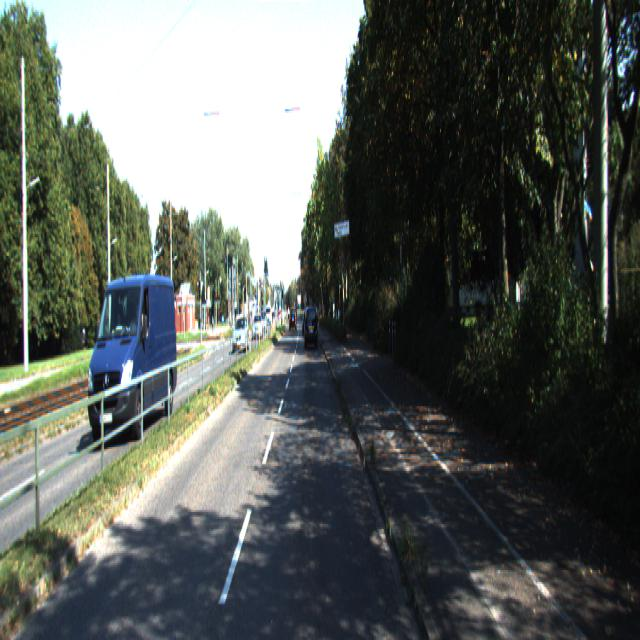Car: (87, 265, 179, 450), (232, 316, 250, 355), (305, 306, 319, 351)
